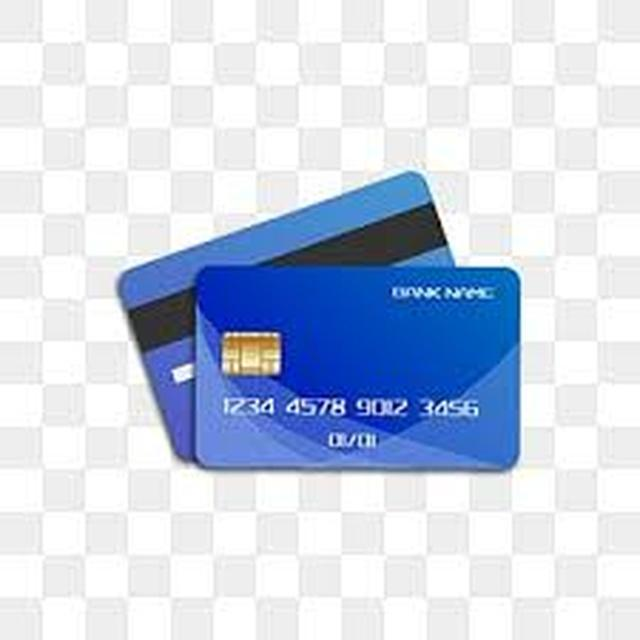card: (49, 203, 563, 510), (105, 173, 506, 466), (148, 264, 549, 486)
